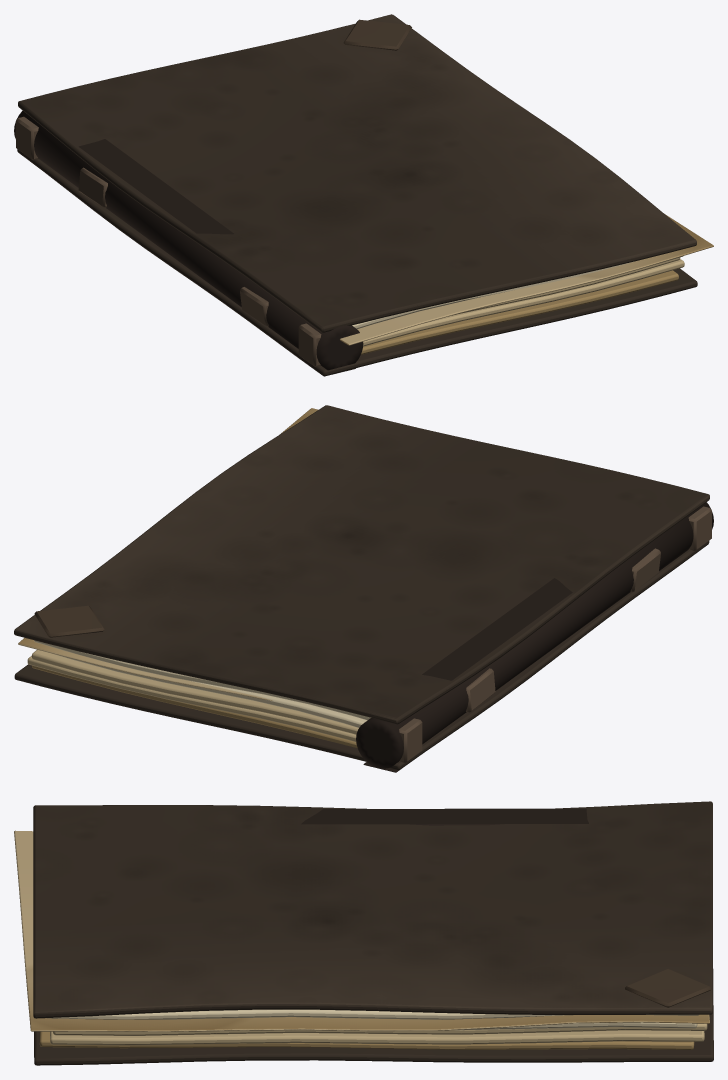
Rendered from NhatKy_Dong.glb.
3 views of the same model, one above another, from view 1: azimuth 30°, elevation 25°; view 2: azimuth 150°, elevation 25°; view 3: azimuth 270°, elevation 25° (orthographic). The views are drawn at different scales.
Parts seen in each view (by area): view 1: NhatKy_Dong; view 2: NhatKy_Dong; view 3: NhatKy_Dong.
Boxes of the visible parts, left/top/right/bottom form: NhatKy_Dong: left=14, top=14, right=713, bottom=376; NhatKy_Dong: left=14, top=405, right=713, bottom=772; NhatKy_Dong: left=14, top=801, right=713, bottom=1065.
Bounding box in the file's own units: 0.1603 × 0.0223 × 0.2204.
9 materials, 2 textured.
